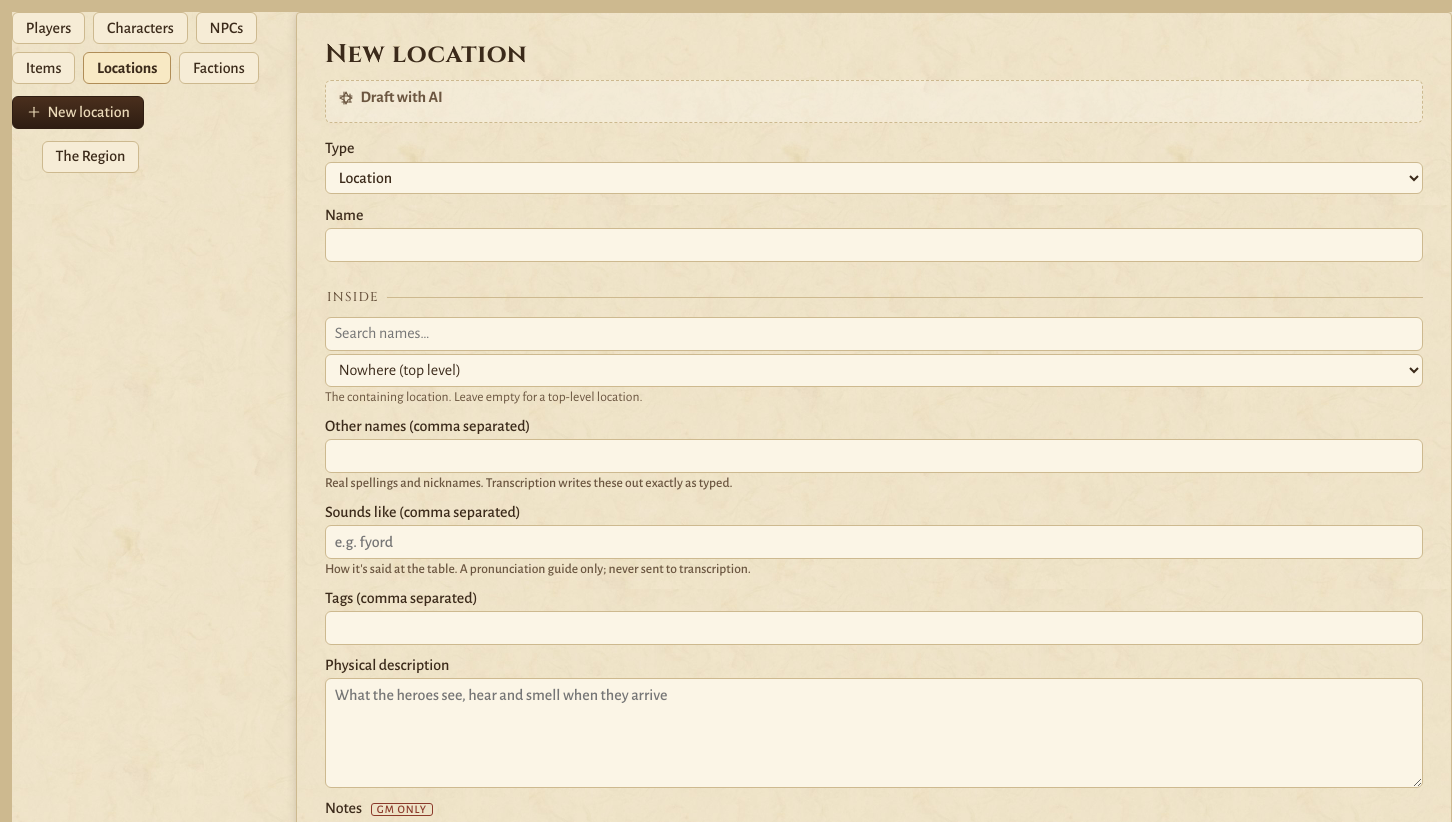
Test: location tree › a failed delete shows the server's error instead of failing silently
The width and height of the screenshot is (1452, 822).
What coordinates should you click on to do the following:
click the button "The Region"
I would click on:
 (90, 157)
Its box is x1=42 y1=141 x2=139 y2=173.
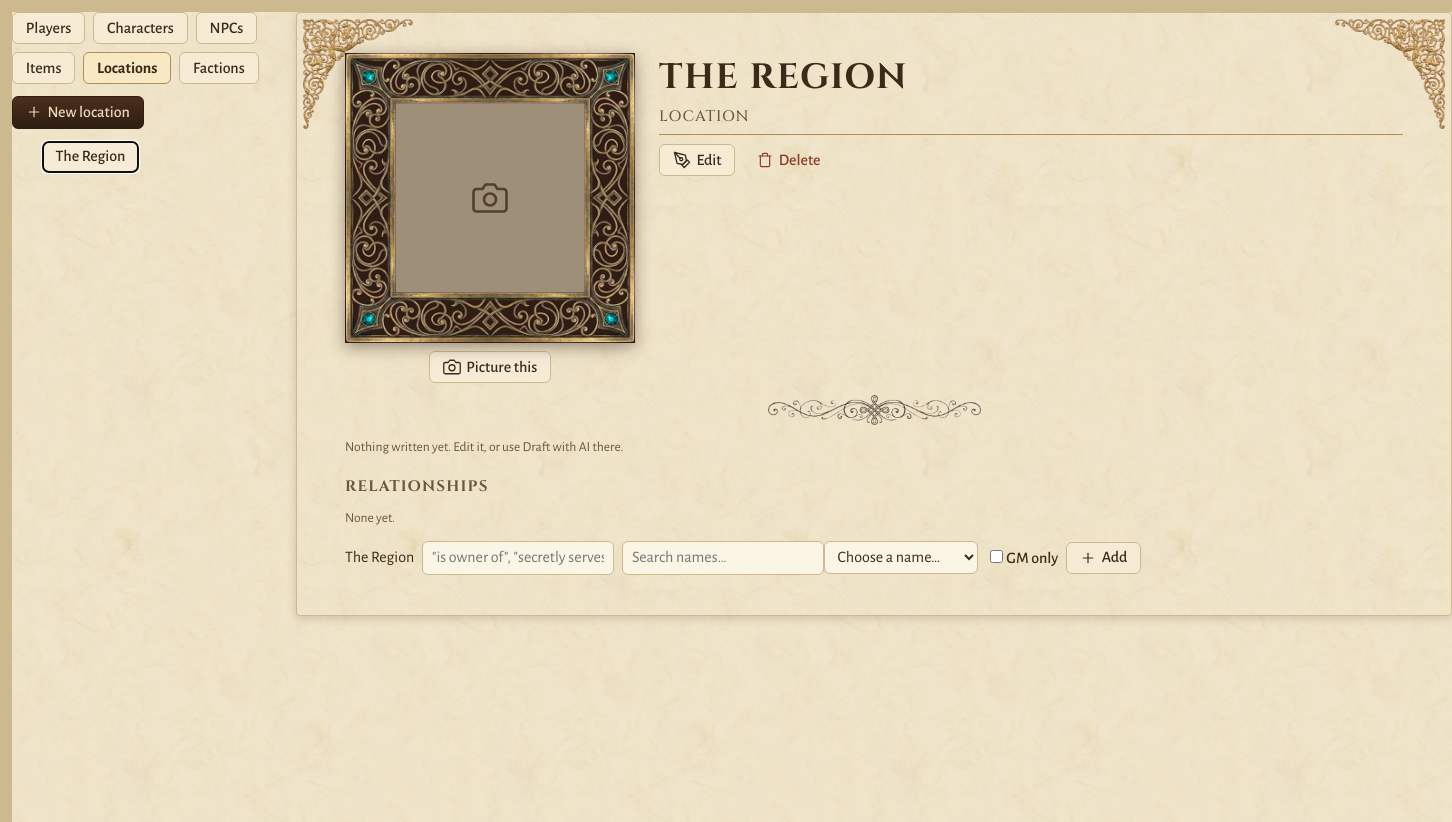
What coordinates should you click on to do the following:
click the button "Delete"
I would click on:
 (789, 160)
Its box is x1=743 y1=144 x2=834 y2=176.
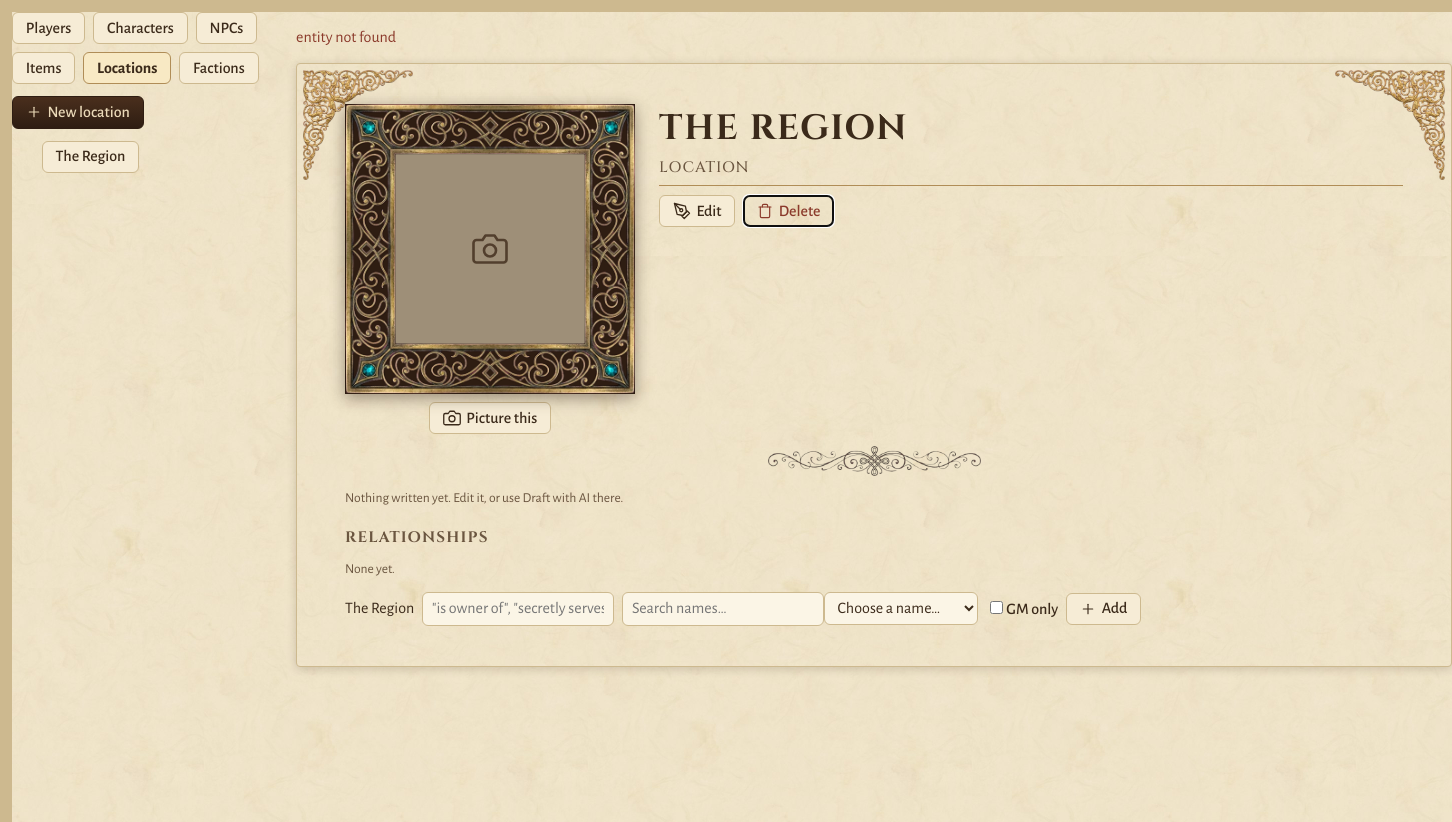
Result: the text "entity not found" is shown at x1=296 y1=29 x2=396 y2=45
